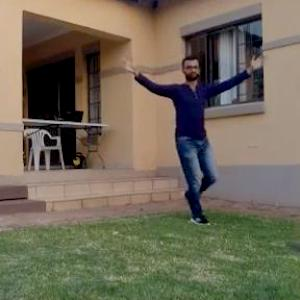takeoff: (108, 59, 256, 226)
